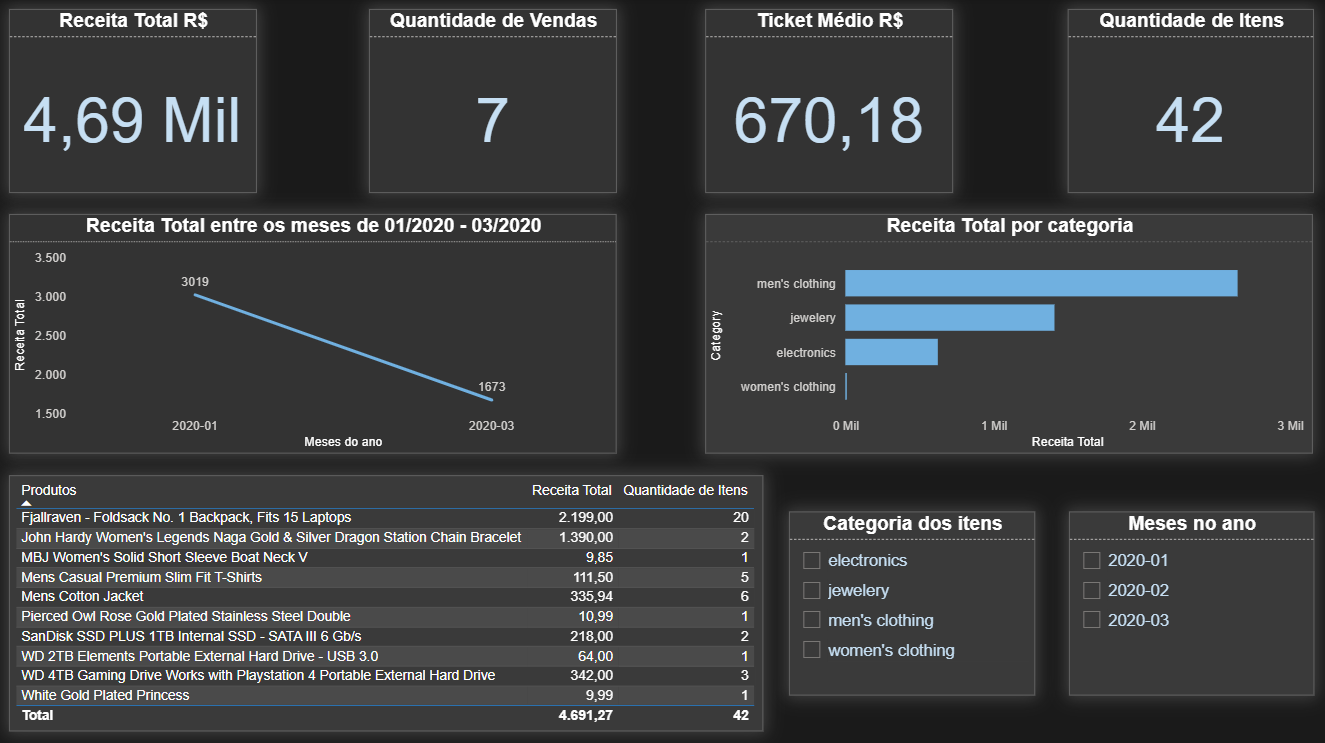

What the dashboard file says about the page in this screenshot:
{"tool":"powerbi","page":{"name":"Visao Geral","canvas":[1280,720],"ordinal":1},"visuals":[{"type":"slicer","title":"Meses no ano","fields":{"Values":["DimDate.YearMonth"]},"box":[1032.5,495.1,236.7,177.5],"z":0},{"type":"slicer","title":"Categoria dos itens","fields":{"Values":["DimCategory.Category"]},"box":[762,495.1,237.9,177.5],"z":1},{"type":"card","title":"Receita Total R$","fields":{"Values":["sales_fact.Receita Total"]},"box":[9.7,9.7,239.1,177.5],"z":2},{"type":"card","title":"Quantidade de Itens","fields":{"Values":["sales_fact.Qtd Itens"]},"box":[1031.2,9.7,237.9,177.5],"z":3},{"type":"card","title":"Quantidade de Vendas","fields":{"Values":["sales_fact.Qtd Vendas"]},"box":[357.4,9.7,239.1,177.5],"z":4},{"type":"card","title":"Ticket Médio R$","fields":{"Values":["sales_fact.Ticket Medio"]},"box":[682,9.8,239.5,177.9],"z":5},{"type":"lineChart","title":"Receita Total entre os meses de 01/2020 - 03/2020","fields":{"Category":["DimDate.YearMonth"],"Y":["sales_fact.Receita Total"]},"box":[9.8,207.3,586.8,231.1],"z":6},{"type":"clusteredBarChart","title":"Receita Total por categoria","fields":{"Category":["DimCategory.Category"],"Y":["sales_fact.Receita Total"]},"box":[682,207.3,586.8,231.1],"z":7},{"type":"tableEx","fields":{"Values":["sales_fact.product_title","sales_fact.Receita Total","sales_fact.Qtd Itens"]},"box":[9.7,460.1,728.2,247.5],"z":8}]}

Visuals, with their boxes in screenshot pixels (x1, y1, x2, y2), scaled from the page's 1280x720 canvas onto the 1325x743 screenshot:
"Meses no ano" slicer: [left=1069, top=511, right=1314, bottom=694]
"Categoria dos itens" slicer: [left=789, top=511, right=1035, bottom=694]
"Receita Total R$" card: [left=10, top=10, right=258, bottom=193]
"Quantidade de Itens" card: [left=1067, top=10, right=1314, bottom=193]
"Quantidade de Vendas" card: [left=370, top=10, right=617, bottom=193]
"Ticket Médio R$" card: [left=706, top=10, right=954, bottom=194]
"Receita Total entre os meses de 01/2020 - 03/2020" lineChart: [left=10, top=214, right=618, bottom=452]
"Receita Total por categoria" clusteredBarChart: [left=706, top=214, right=1313, bottom=452]
tableEx - sales_fact.product_title x sales_fact.Receita Total: [left=10, top=475, right=764, bottom=730]
